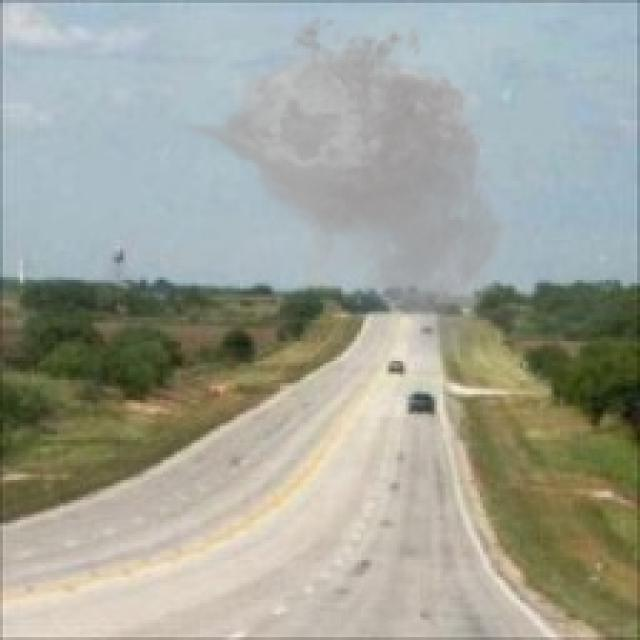Smoke: (171, 3, 523, 366)
